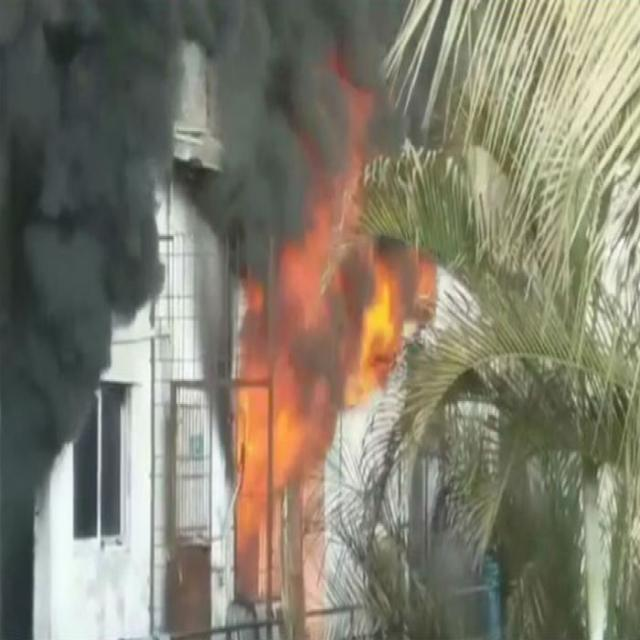Fire: (240, 280, 348, 596), (362, 274, 402, 384), (396, 243, 441, 313)
Smoke: (0, 0, 140, 296), (0, 210, 110, 584), (181, 5, 321, 164)
